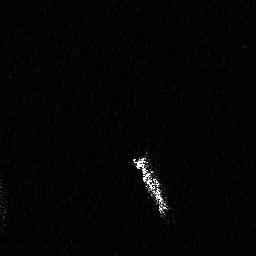ship: (128, 147, 173, 226)
